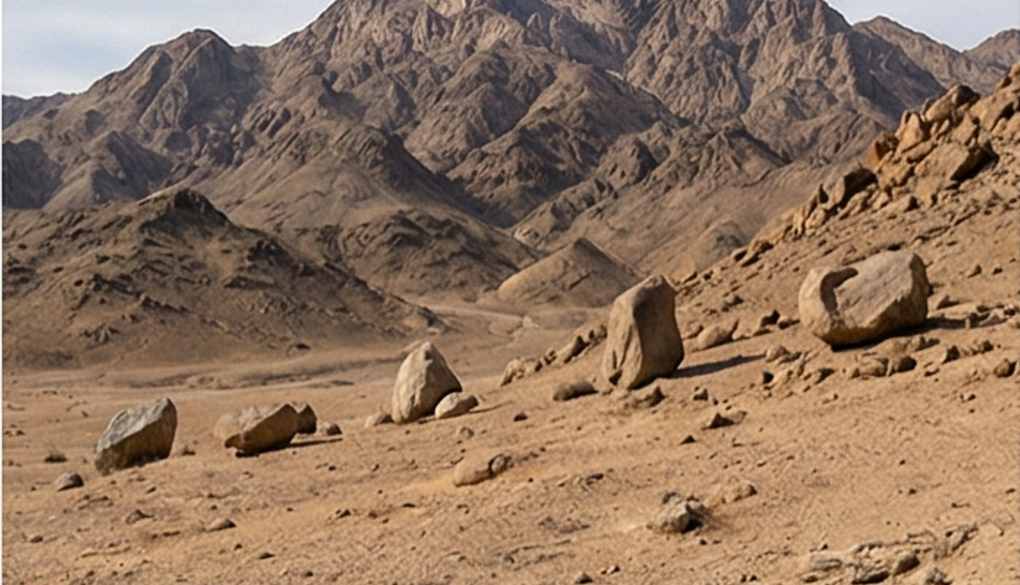rocks: (798, 251, 928, 347), (596, 276, 684, 390), (389, 341, 476, 423), (95, 397, 177, 473), (214, 402, 317, 454)
